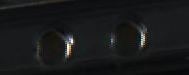joints: (33, 25, 74, 67), (106, 15, 150, 54)
